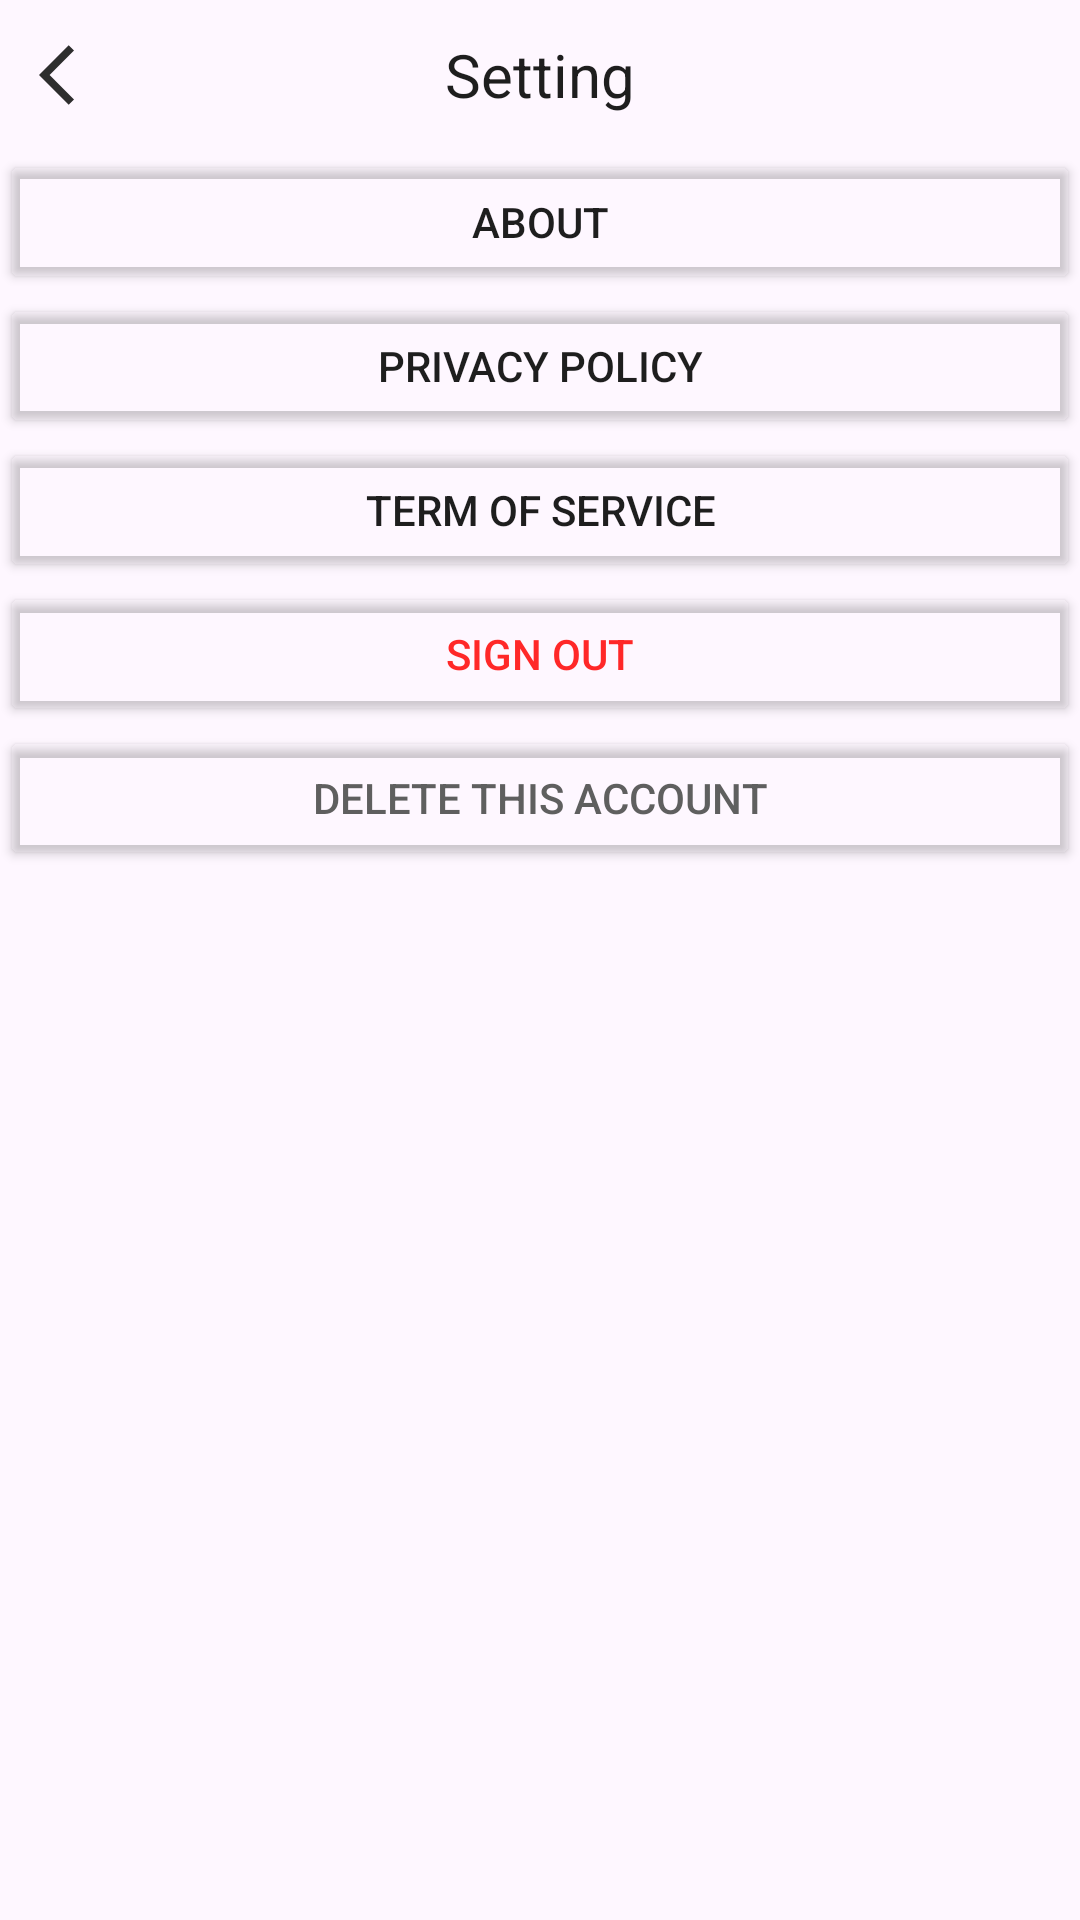

Locate icon controls on the screen. Image size 1080px x 1920px, boxes as (x1, y1, x2, y2).
arrow back: (39, 45, 74, 105)
